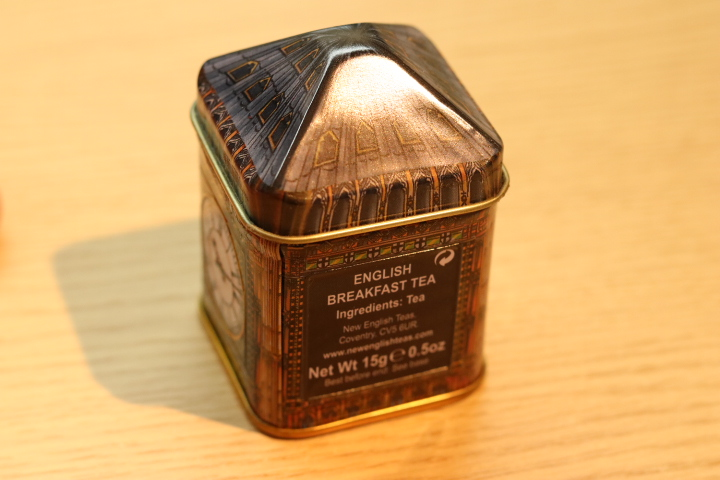Big Ben: (173, 15, 531, 452)
